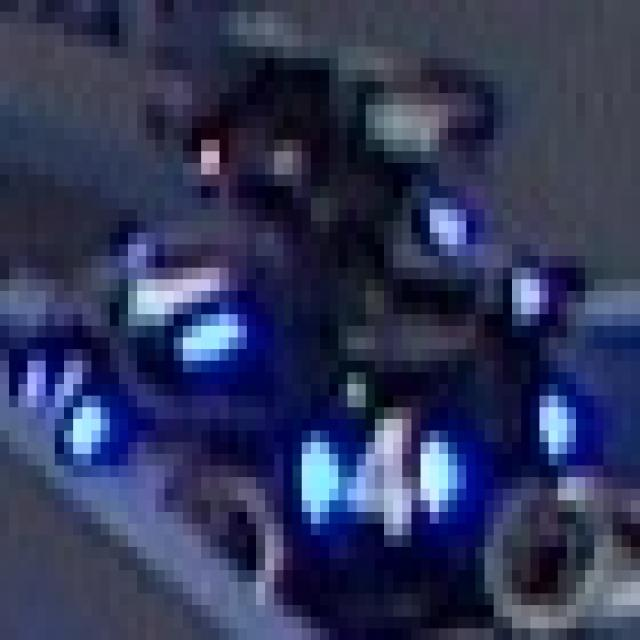B4: (293, 396, 457, 547)
